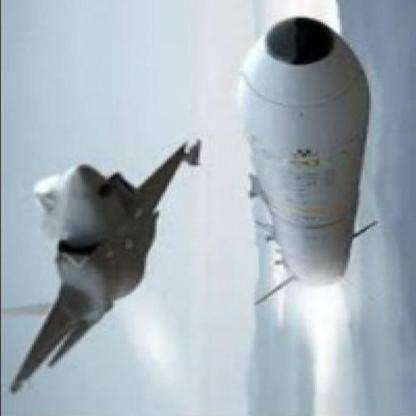MIL_TBM: (236, 11, 373, 309)
